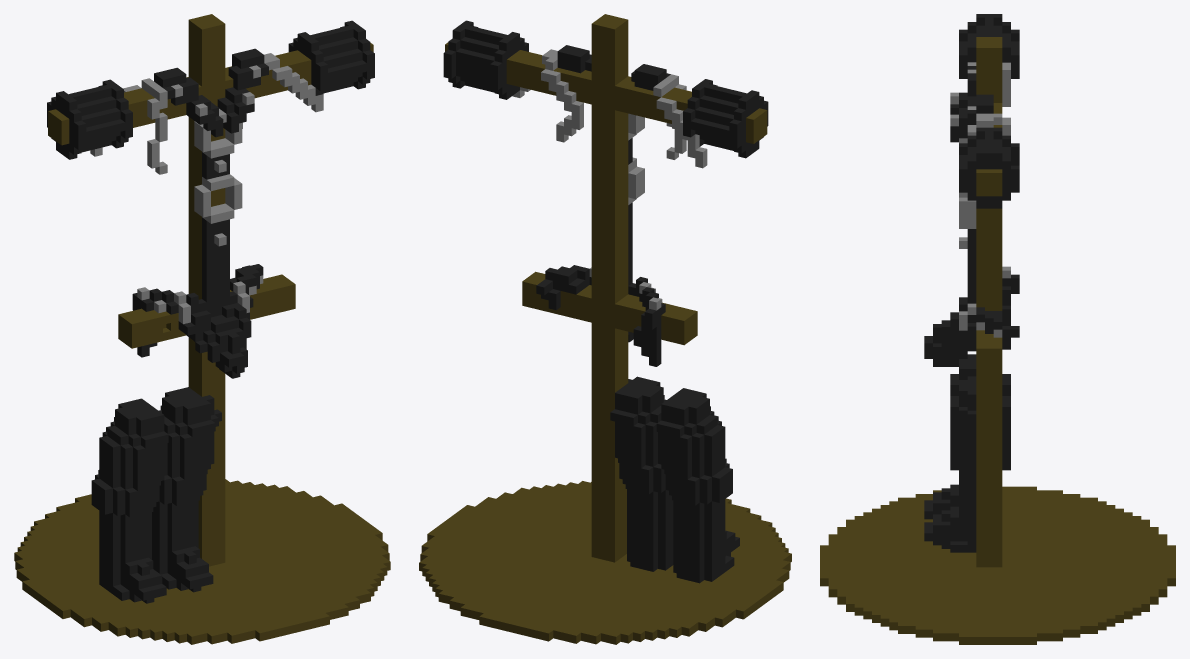
The model's file is Костюм на стойке.obj.
The picture shows the model from 3 angles, left to right: view 1: azimuth 30°, elevation 25°; view 2: azimuth 150°, elevation 25°; view 3: azimuth 270°, elevation 25°; orthographic projection. The views are drawn at different scales.
Size of the model in its own units: 4.1 by 6.7 by 4.1.
Materials: 1 (1 with a texture image).
